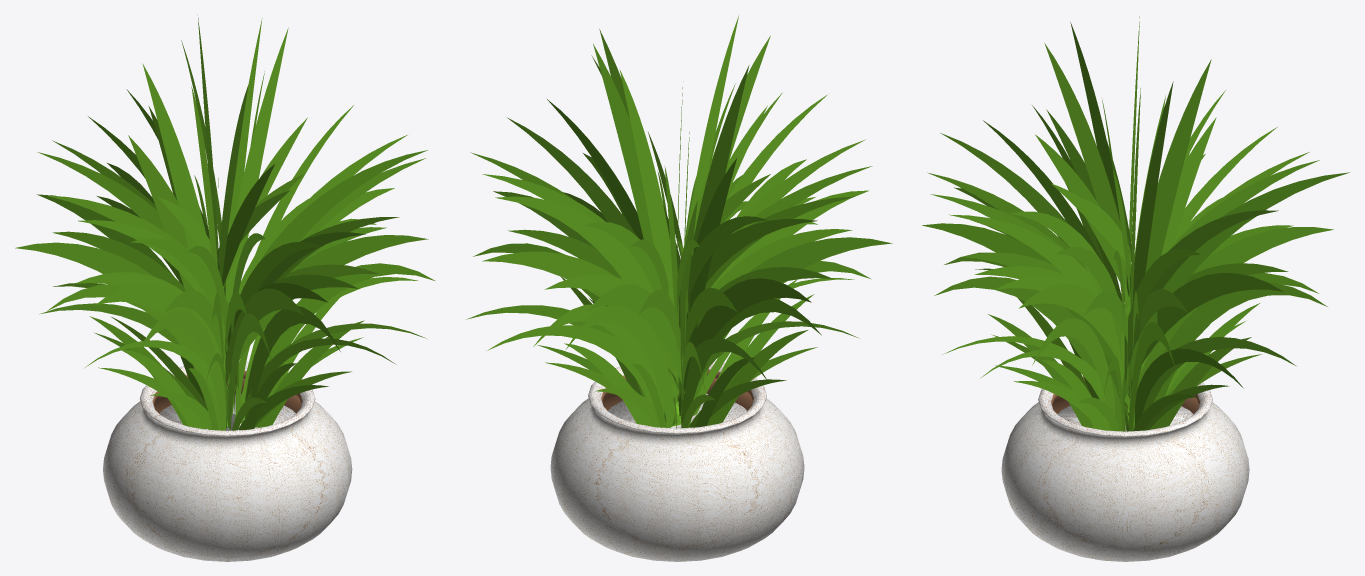
3 renders of one model, left to right at view 1: azimuth 30°, elevation 25°; view 2: azimuth 150°, elevation 25°; view 3: azimuth 270°, elevation 25°, orthographic. The views are drawn at different scales.
Parts seen in each view (by area): view 1: Plant (×50); view 2: Plant (×52); view 3: Plant (×52).
Part boxes in pixels (x1,y1,x2,y2): Plant (×50): (15, 17, 434, 561); Plant (×52): (466, 16, 892, 561); Plant (×52): (922, 16, 1349, 561).
Bounding box in the file's own units: 60.25 × 63.89 × 77.61.
Materials: 5 (1 with a texture image).
